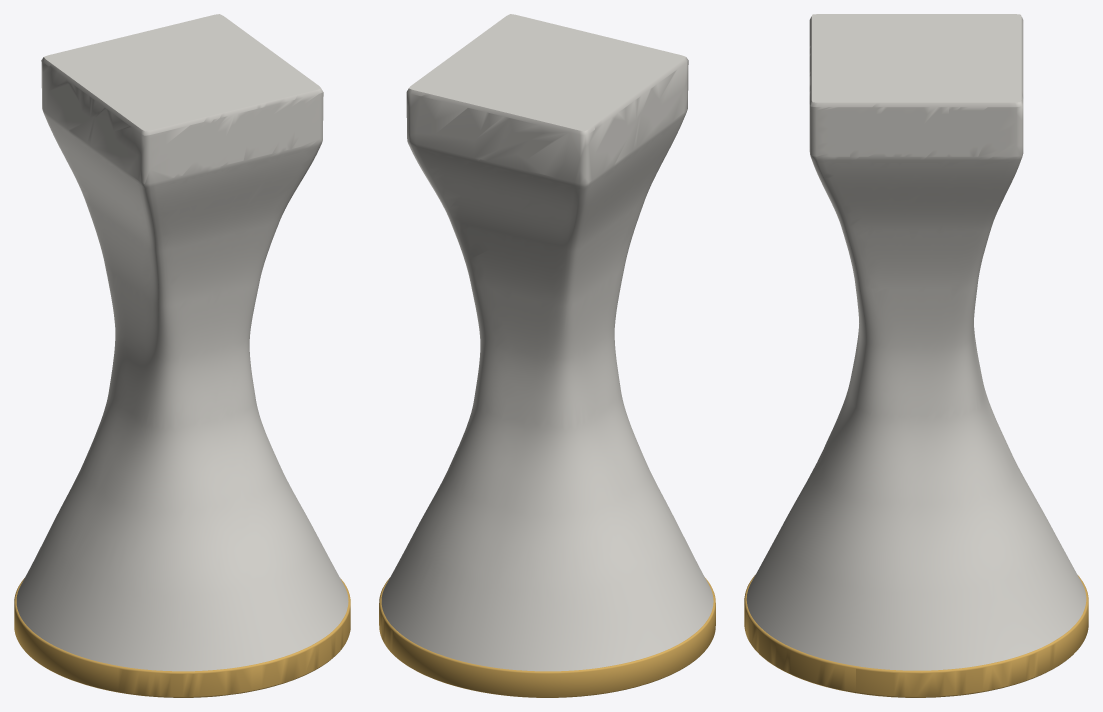
The model's file is rook-white-hd.glb.
3 renders of one model, left to right at view 1: azimuth 30°, elevation 25°; view 2: azimuth 150°, elevation 25°; view 3: azimuth 270°, elevation 25°, orthographic. The views are drawn at different scales.
Parts seen in each view (by area): view 1: 02_vez_telo_0, 02_vez_podstavec; view 2: 02_vez_telo_0, 02_vez_podstavec; view 3: 02_vez_telo_0, 02_vez_podstavec.
Part boxes in pixels (bbox=[...]): 02_vez_telo_0: bbox=[16, 14, 348, 671]; 02_vez_podstavec: bbox=[14, 578, 350, 697]; 02_vez_telo_0: bbox=[381, 14, 713, 671]; 02_vez_podstavec: bbox=[379, 578, 715, 697]; 02_vez_telo_0: bbox=[746, 14, 1086, 670]; 02_vez_podstavec: bbox=[744, 575, 1088, 697].
Size of the model in its own units: 0.7258 by 1.32 by 0.7258.
